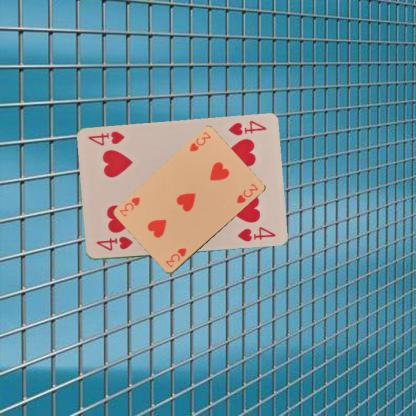3h: (187, 130, 212, 153), (163, 246, 188, 268)
4h: (225, 118, 268, 137), (93, 234, 134, 252)
